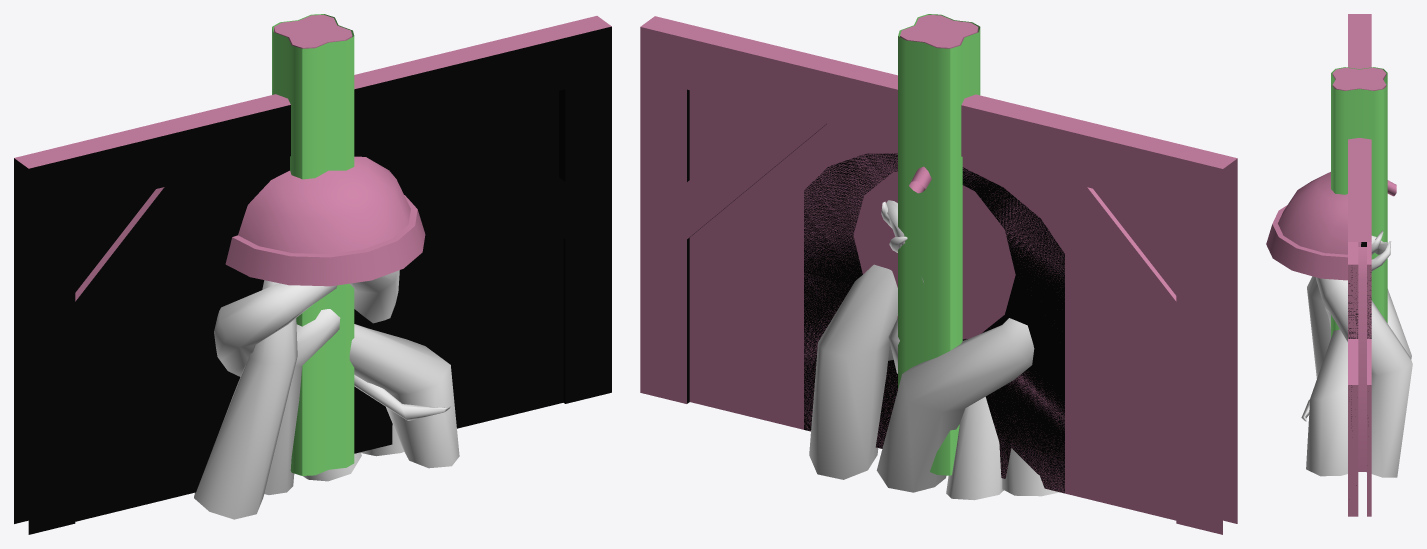
File: archi_freja.FBX
3 views of the same model, side by side, from view 1: azimuth 30°, elevation 25°; view 2: azimuth 150°, elevation 25°; view 3: azimuth 270°, elevation 25° (orthographic). The views are drawn at different scales.
Visible parts, largest first — view 1: Windows, door_retopo, Pilar, door_entree; view 2: door_entree, door_retopo, Windows, Pilar, Wall_simple; view 3: door_retopo, door_entree, Pilar, Windows.
Part boxes in pixels (box(x1,y1,x2,y2)): Windows: box(14, 26, 611, 534); door_retopo: box(194, 270, 459, 519); Pilar: box(272, 14, 354, 475); door_entree: box(14, 16, 611, 301); door_entree: box(640, 16, 1237, 534); door_retopo: box(809, 200, 1059, 500); Windows: box(687, 89, 1064, 493); Pilar: box(898, 14, 980, 475); Wall_simple: box(804, 153, 1064, 493); door_retopo: box(1301, 230, 1412, 477); door_entree: box(1348, 14, 1371, 516); Pilar: box(1331, 67, 1387, 337); Windows: box(1266, 172, 1371, 485).
Size of the model in its own units: 500 by 136 by 370.
